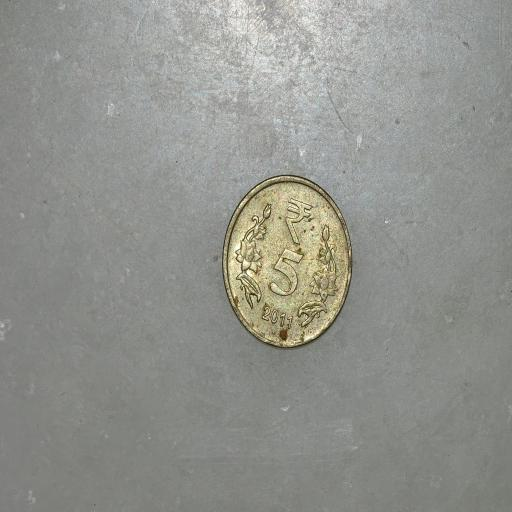rupee5: (222, 172, 352, 353)
